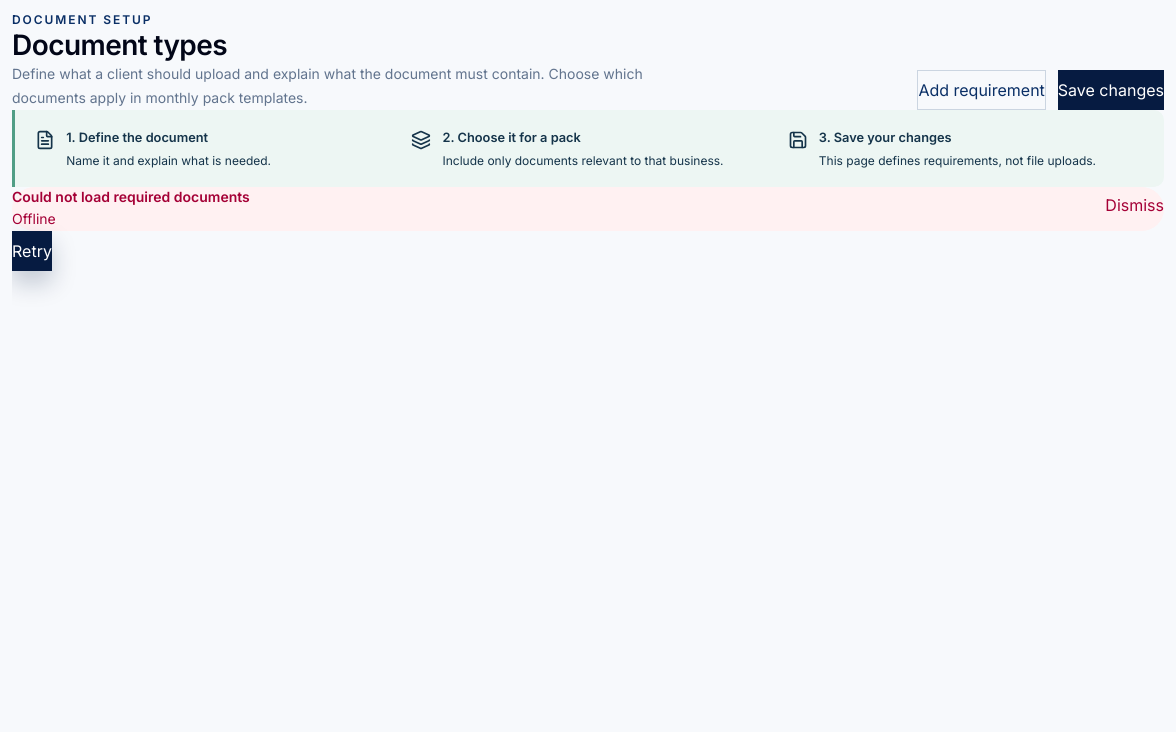
Scenario: admin required documents › blocks editing after a failed load and allows retry
The width and height of the screenshot is (1176, 732).
Expected: the text "Could not load required documents" is shown, [12,187,250,207]
Expected: the button "Save changes" is disabled, [1058,70,1164,110]
Click the button "Retry" at point(32, 251), box [12,231,52,271]
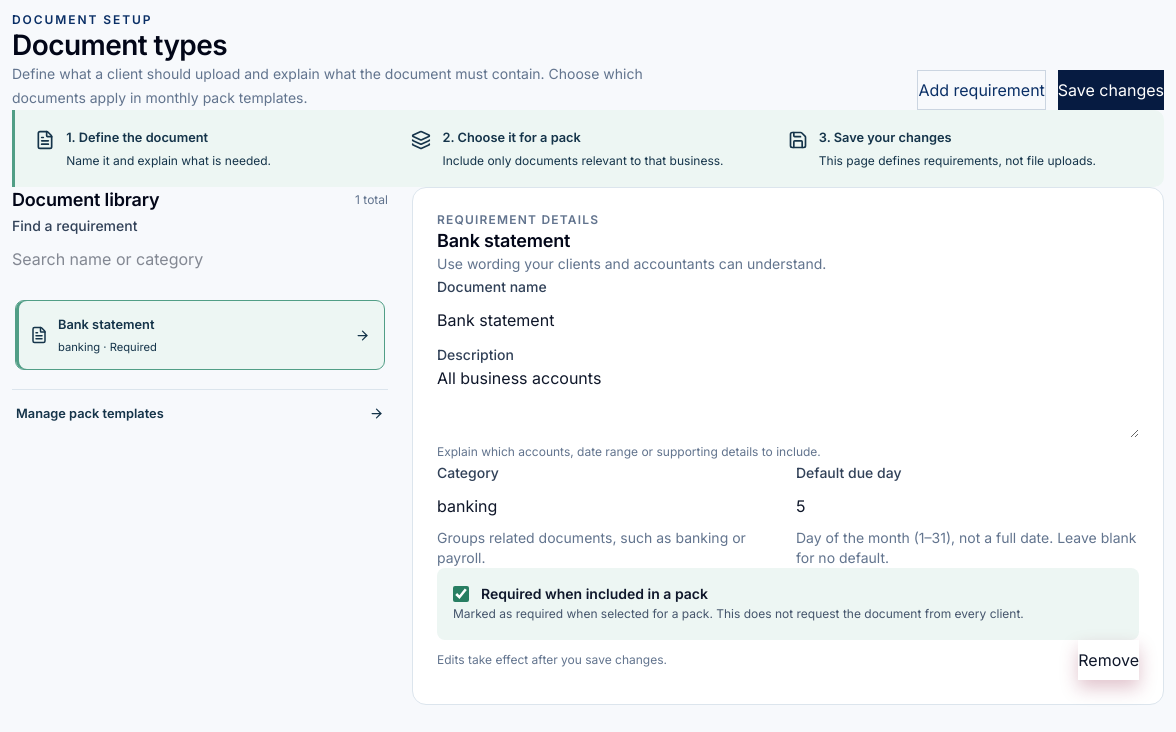
Expected: the field showing "Bank statement" is shown, [437,298,1139,342]
